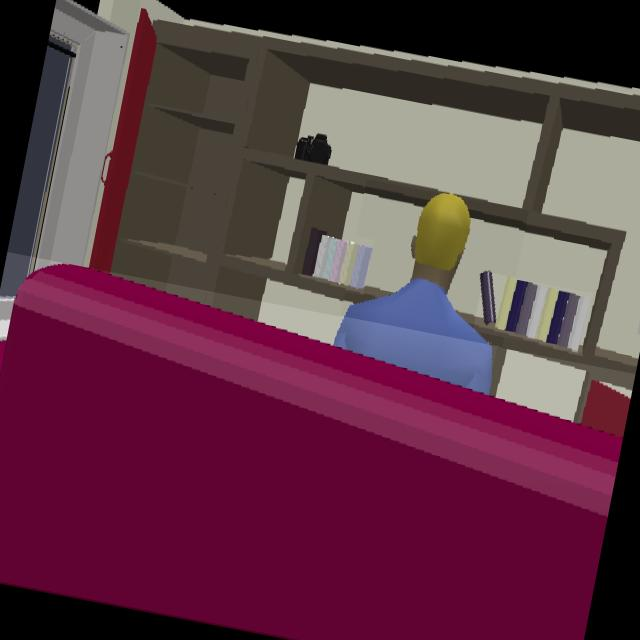book: (483, 276, 591, 351), (300, 229, 373, 295)
bookshelf: (89, 11, 640, 397)
person: (334, 195, 495, 394)
sofa: (0, 266, 632, 640)
